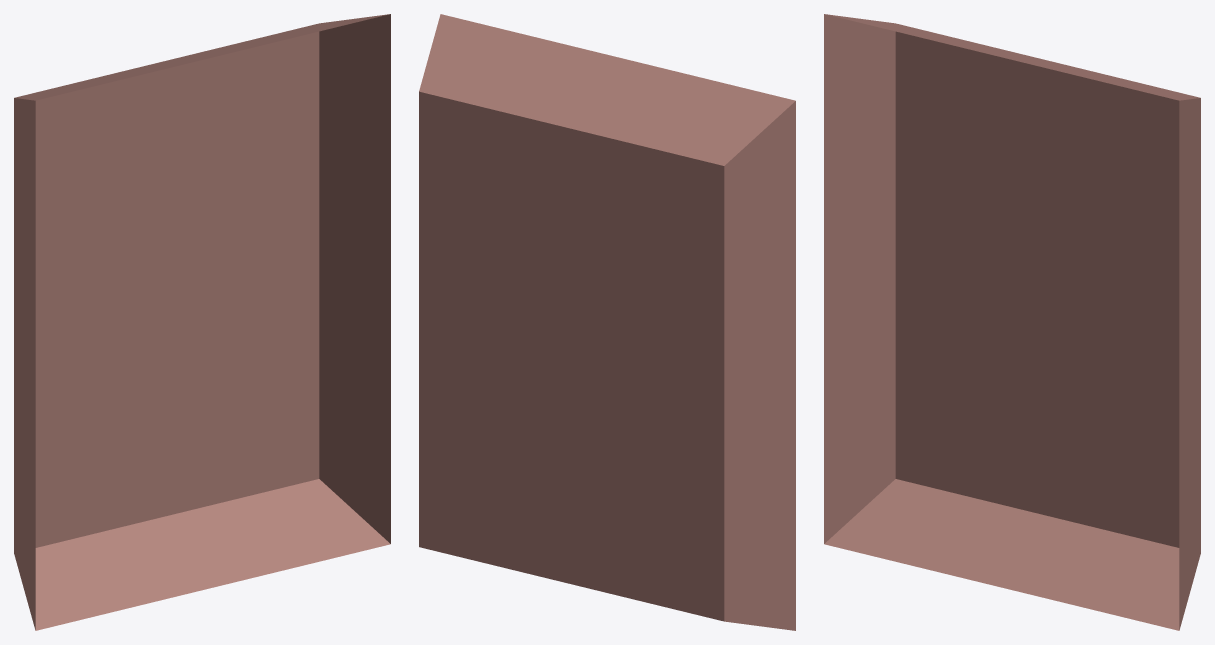
Rendered from mesh_door_card_reader.fbx.
3 renders of one model, left to right at view 1: azimuth 30°, elevation 25°; view 2: azimuth 150°, elevation 25°; view 3: azimuth 330°, elevation 25°, orthographic.
Visible parts, largest first — view 1: door_card_reader; view 2: door_card_reader; view 3: door_card_reader.
Part boxes in pixels (box(x1,y1,x2,y2)): door_card_reader: box(14, 14, 390, 630); door_card_reader: box(419, 14, 795, 630); door_card_reader: box(824, 14, 1200, 630).
Size of the model in its own units: 15.86 by 22.61 by 3.6.
